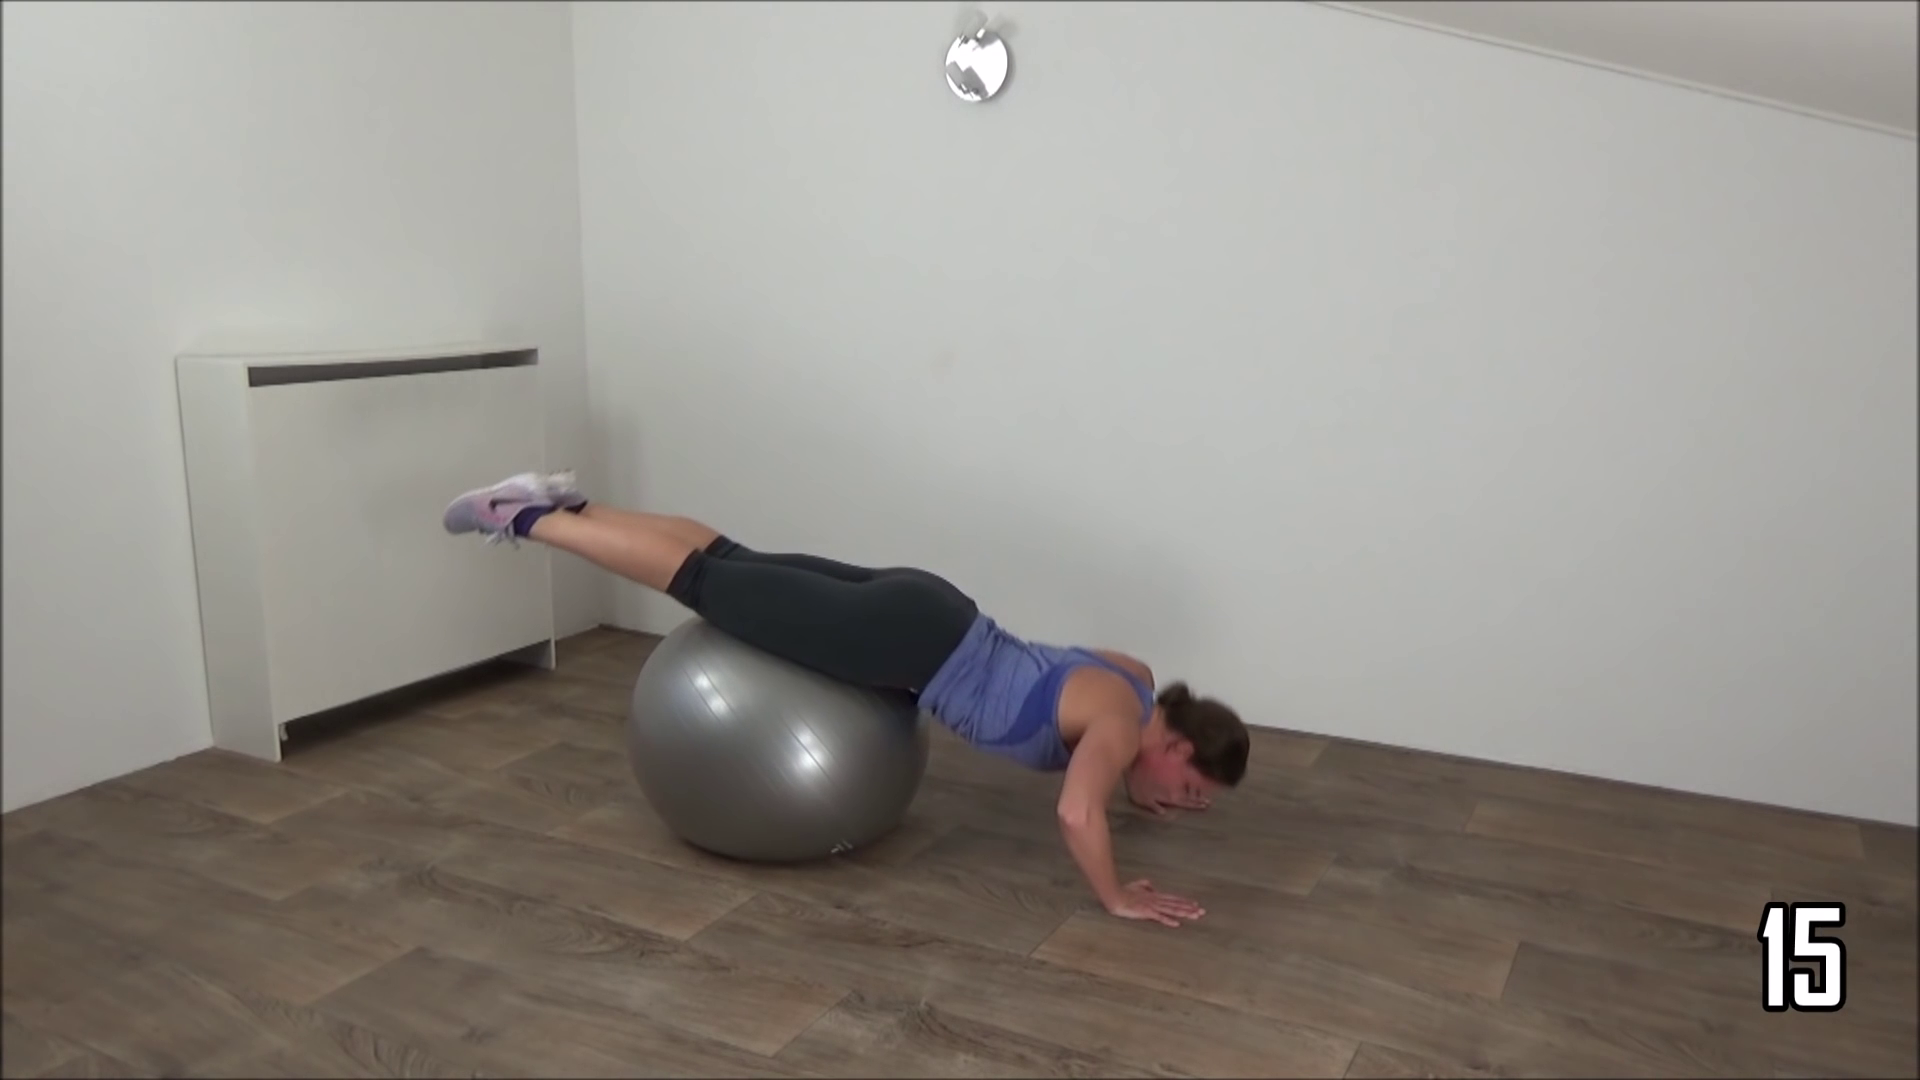yogaball: (597, 587, 957, 899)
